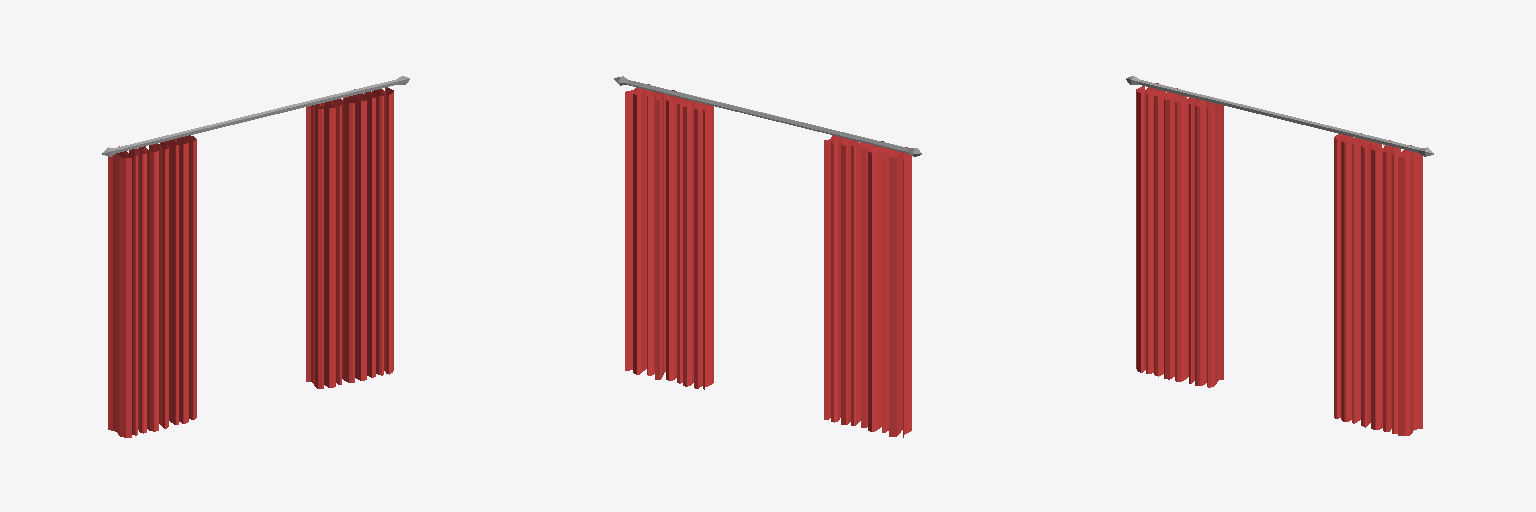
File: cat16_curtain2.obj
3 views of the same model, side by side, from view 1: azimuth 30°, elevation 25°; view 2: azimuth 150°, elevation 25°; view 3: azimuth 330°, elevation 25° (orthographic).
Visible parts, largest first — view 1: Component#1, Component#1 2, <LightGray>; view 2: Component#1 2, Component#1, <LightGray>; view 3: Component#1 2, Component#1, <LightGray>.
Boxes of the visible parts, x1,y1,x2,y2 form: Component#1: [108, 135, 196, 437]; Component#1 2: [306, 87, 393, 388]; <LightGray>: [116, 80, 396, 152]; Component#1 2: [625, 84, 713, 389]; Component#1: [824, 135, 911, 437]; <LightGray>: [626, 80, 907, 152]; Component#1 2: [1334, 133, 1422, 435]; Component#1: [1136, 83, 1223, 387]; <LightGray>: [1139, 80, 1419, 152].
Size of the model in its own units: 92 by 82.36 by 7.74.